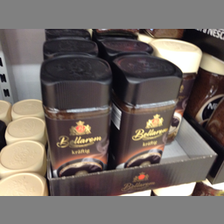coffee: (39, 56, 114, 178), (112, 54, 182, 168)
